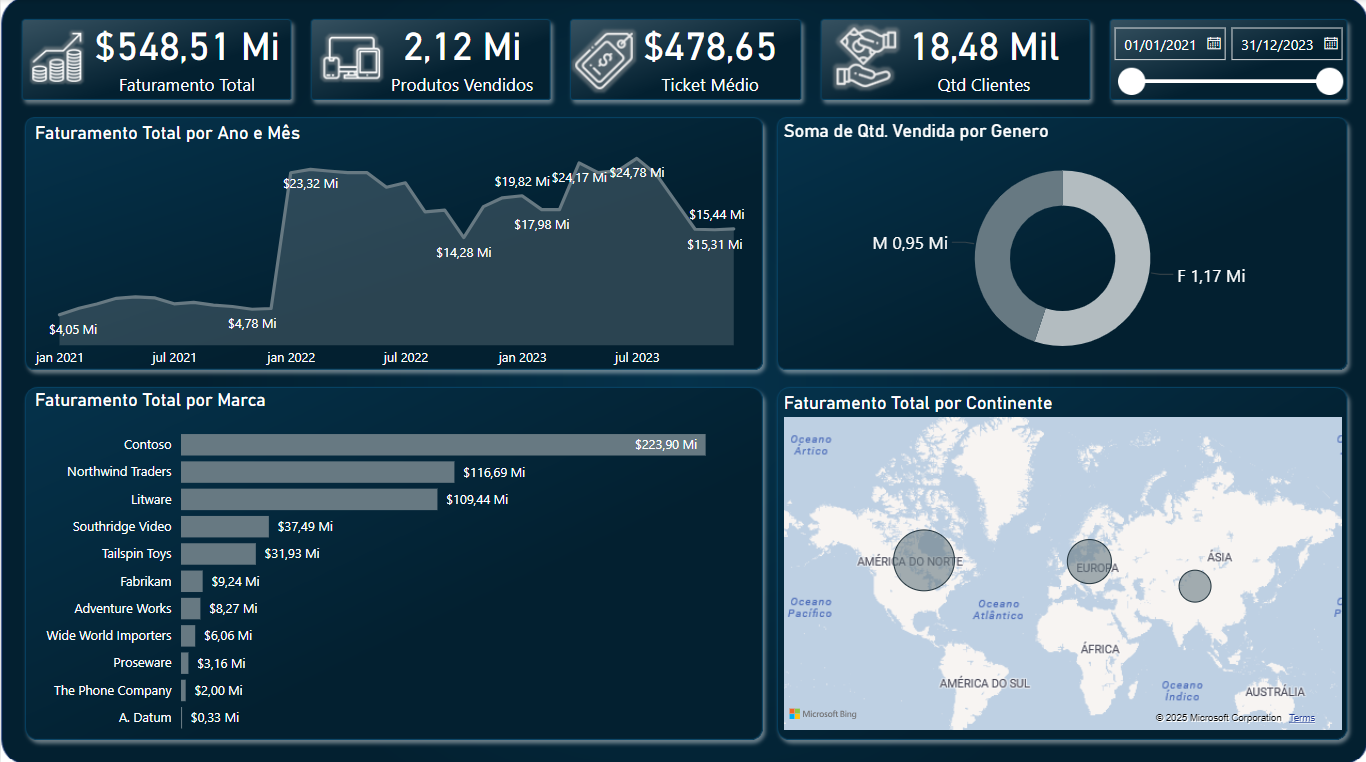

The page's visual inventory and layout, read from the dashboard file:
{"tool":"powerbi","page":{"name":"Dashboard Vendas","canvas":[1280,720],"ordinal":0},"visuals":[{"type":"card","fields":{"Values":["BaseVendas.Faturamento Total"]},"box":[68.7,0,211.1,103.7],"z":0},{"type":"card","fields":{"Values":["BaseVendas.Produtos Vendidos"]},"box":[326.8,0,211.1,103.7],"z":1000},{"type":"card","fields":{"Values":["BaseVendas.Ticket Médio"]},"box":[559.6,0,209.8,103.7],"z":2000},{"type":"card","fields":{"Values":["BaseVendas.Qtd Clientes"]},"box":[816.5,0,209.8,103.7],"z":3000},{"type":"barChart","fields":{"Y":["BaseVendas.Faturamento Total"],"Category":["CadadstroProdutos.Marca"]},"box":[26.5,365.4,701.9,334.1],"z":4000},{"type":"areaChart","fields":{"Category":["BaseVendas.Data Venda.Variation.Hierarquia de datas.Ano","BaseVendas.Data Venda.Variation.Hierarquia de datas.Mês"],"Y":["BaseVendas.Faturamento Total"]},"box":[26.5,114.6,686.2,240],"z":5000},{"type":"map","fields":{"Size":["BaseVendas.Faturamento Total"],"Category":["CadastroLojas.Continente"]},"box":[728.4,367.8,533.1,322],"z":6000},{"type":"donutChart","fields":{"Y":["Sum(BaseVendas.Qtd. Vendida)"],"Category":["CadastroClientes.Genero"]},"box":[728.4,113.4,533.1,240],"z":7000},{"type":"slicer","fields":{"Values":["BaseVendas.Data Venda"]},"box":[1031.2,16.9,235.2,82],"z":8000}]}

Visuals, with their boxes in screenshot pixels (x1, y1, x2, y2), scaled from the page's 1280x720 canvas onto the 1366x762 screenshot:
card - BaseVendas.Faturamento Total: l=73, t=0, r=299, b=110
card - BaseVendas.Produtos Vendidos: l=349, t=0, r=574, b=110
card - BaseVendas.Ticket Médio: l=597, t=0, r=821, b=110
card - BaseVendas.Qtd Clientes: l=871, t=0, r=1095, b=110
barChart - BaseVendas.Faturamento Total x CadadstroProdutos.Marca: l=28, t=387, r=777, b=740
areaChart - BaseVendas.Data Venda.Variation.Hierarquia de datas.Ano x BaseVendas.Data Venda.Variation.Hierarquia de datas.Mês: l=28, t=121, r=761, b=375
map - BaseVendas.Faturamento Total x CadastroLojas.Continente: l=777, t=389, r=1346, b=730
donutChart - Sum(BaseVendas.Qtd. Vendida) x CadastroClientes.Genero: l=777, t=120, r=1346, b=374
slicer - BaseVendas.Data Venda: l=1100, t=18, r=1351, b=105
